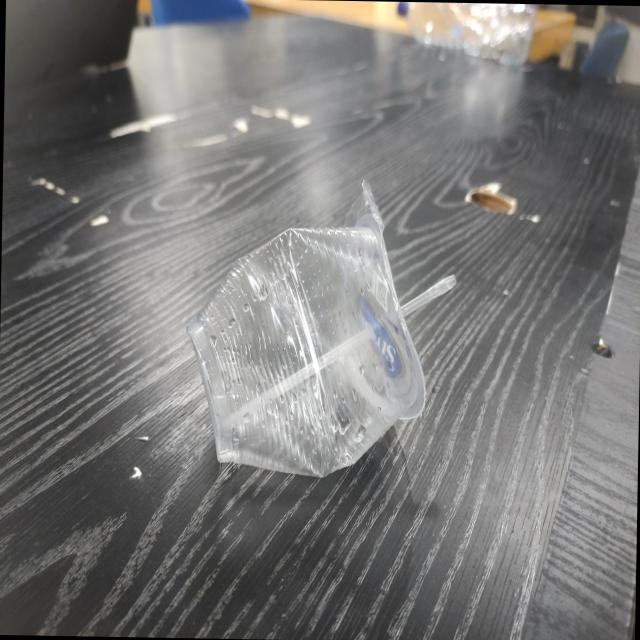GelasPlastik: (182, 174, 458, 480)
